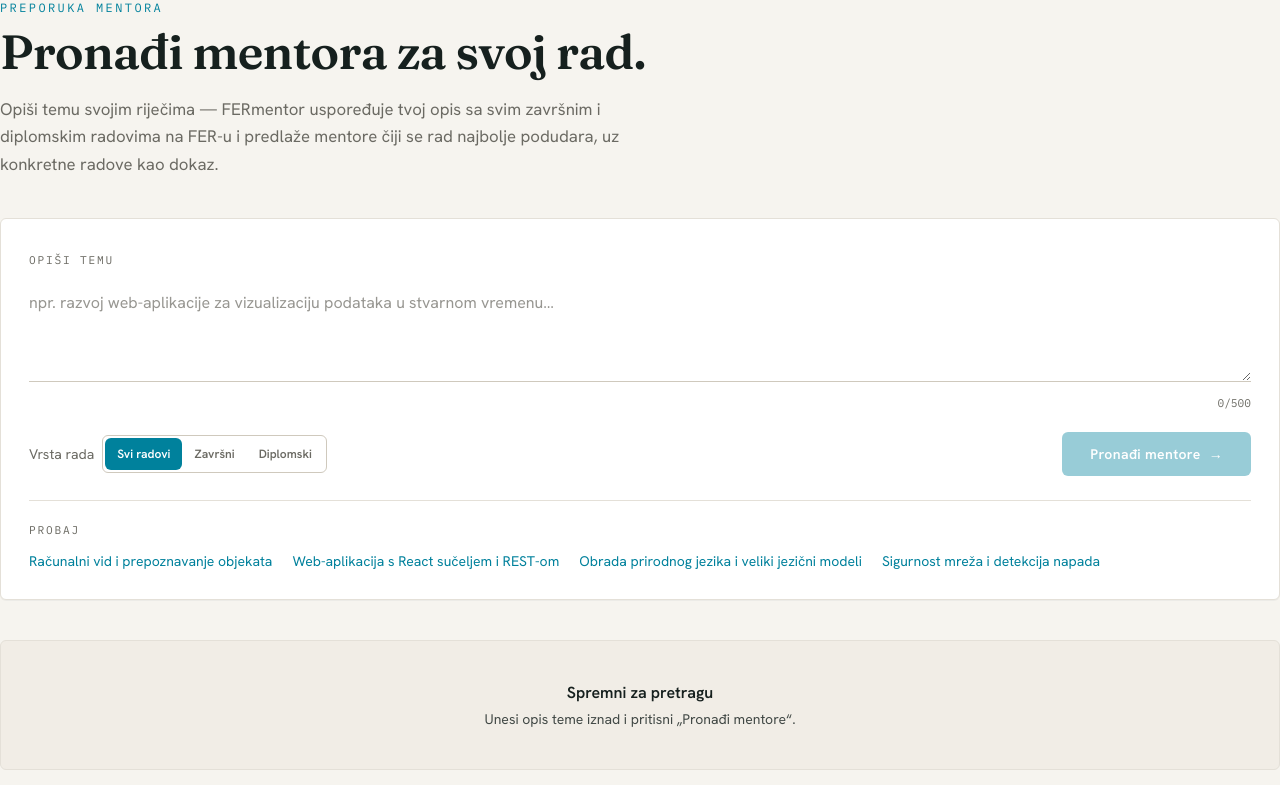
Test: SearchPage › search renders ranked mentors from the mock backend
Type "računalni vid" into the text box labelled "Opiši temu". click: (640, 333)
box: top-left (29, 283), bottom-right (1251, 382)
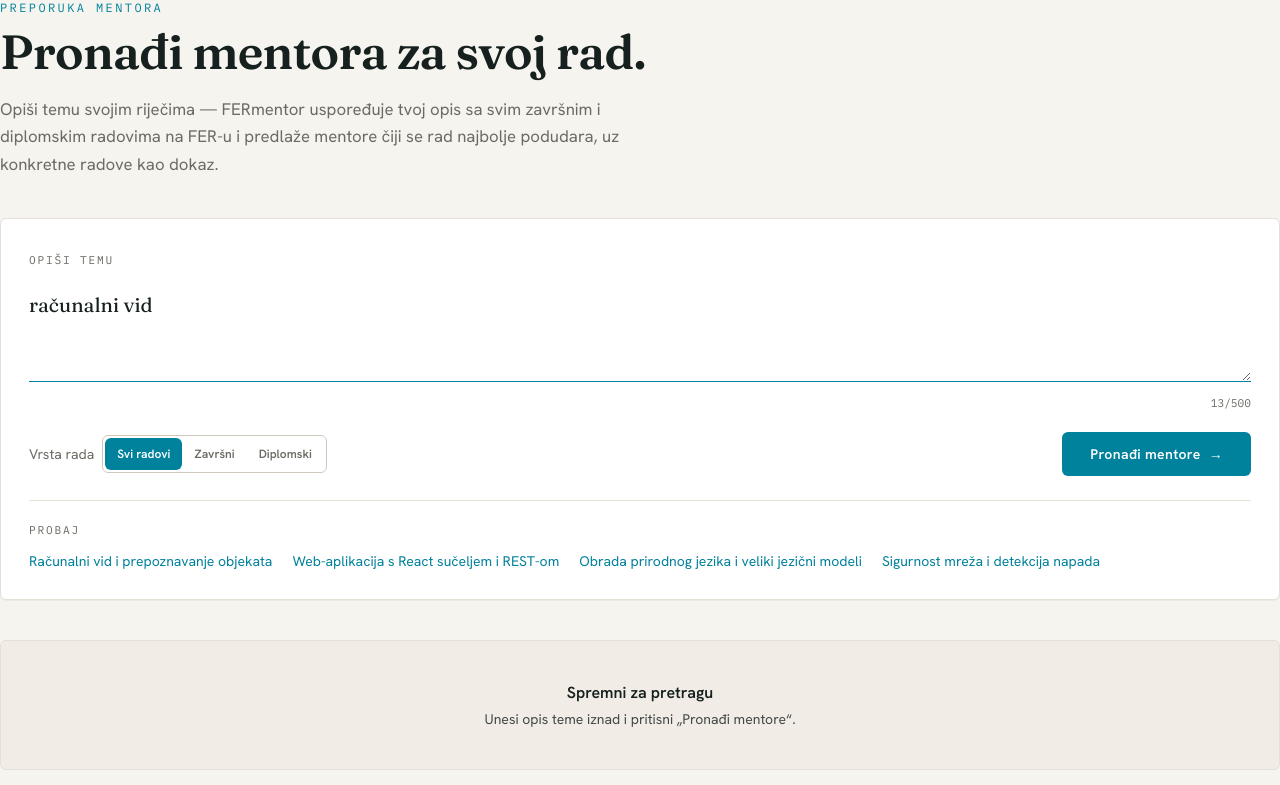
Click the button "Pronađi mentore →". click: (1157, 454)
box: top-left (1062, 432), bottom-right (1251, 476)
(page scrolled)
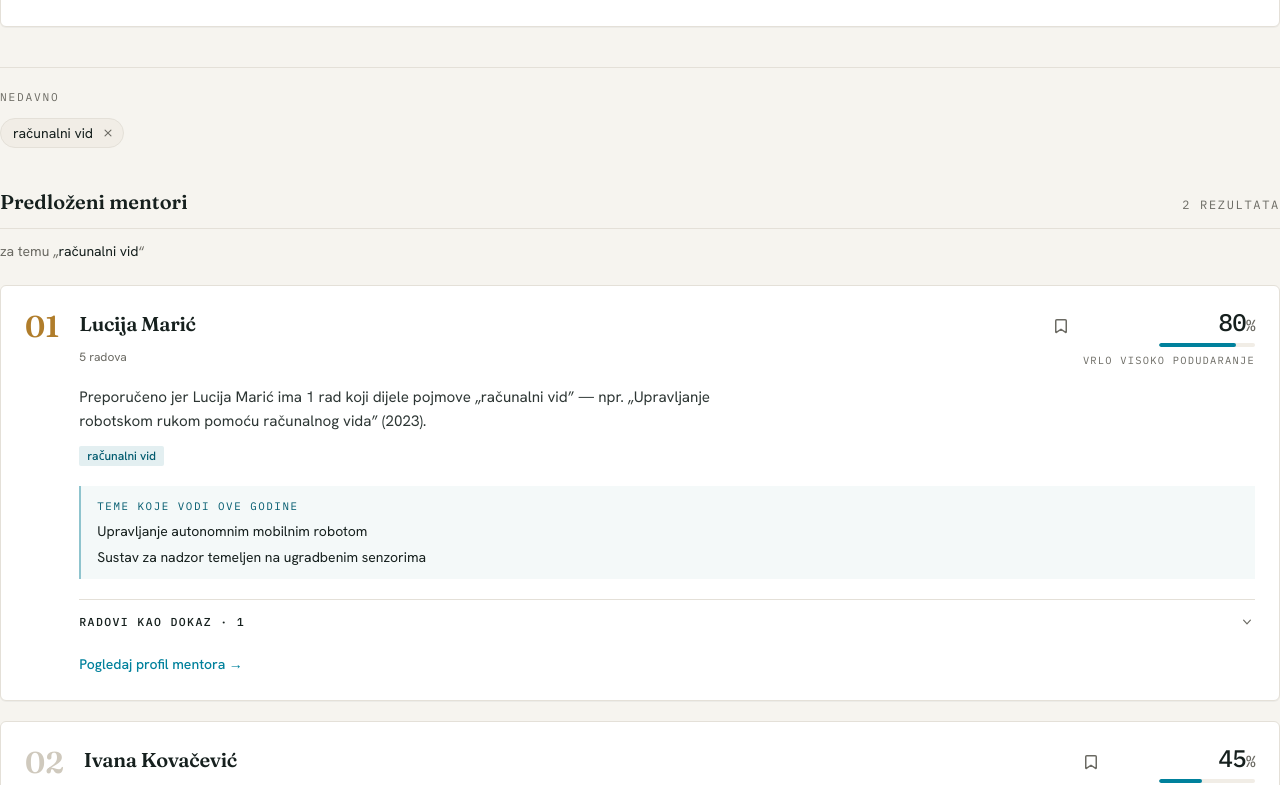
Check: the heading "Predloženi mentori" is shown, box top-left (0, 188), bottom-right (188, 216)
Check: the link "Ivana Kovačević" is shown, box top-left (84, 747), bottom-right (237, 772)
